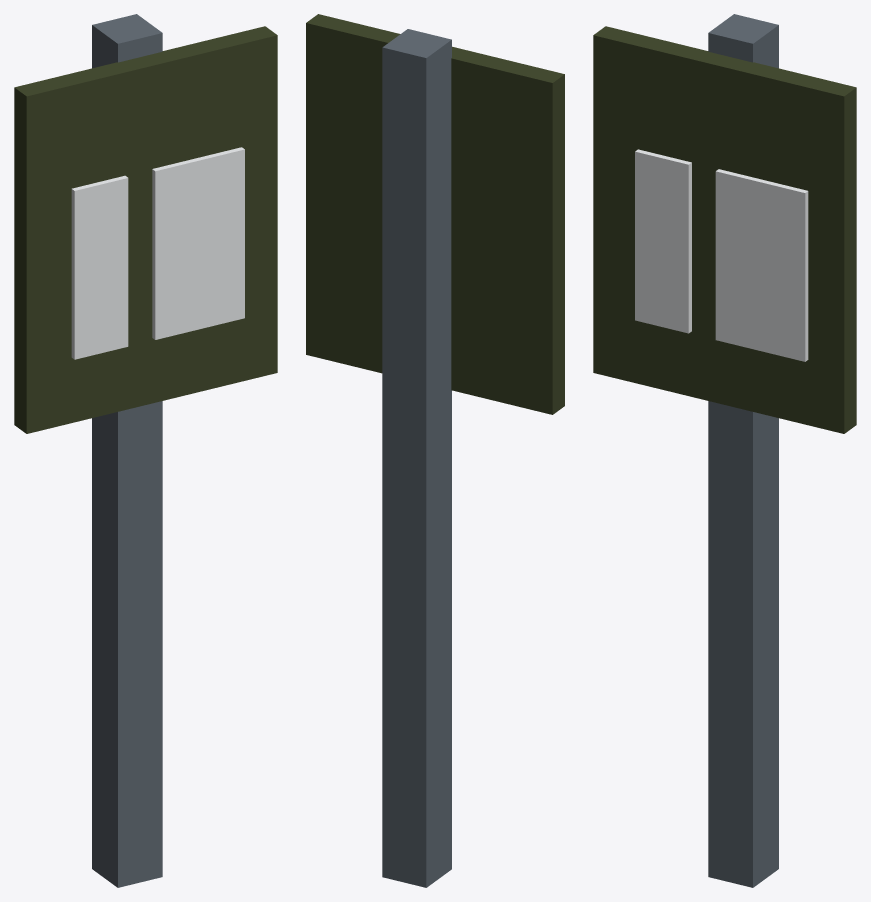
The model's file is prop_mile_marker.fbx.
3 renders of one model, left to right at view 1: azimuth 30°, elevation 25°; view 2: azimuth 150°, elevation 25°; view 3: azimuth 330°, elevation 25°, orthographic.
Parts seen in each view (by area): view 1: prop_mile_marker; view 2: prop_mile_marker; view 3: prop_mile_marker.
Boxes of the visible parts, bbox=[...] form: prop_mile_marker: bbox=[14, 14, 277, 887]; prop_mile_marker: bbox=[306, 14, 564, 887]; prop_mile_marker: bbox=[593, 14, 856, 887].
Bounding box in the file's own units: 140 × 450 × 39.5.
